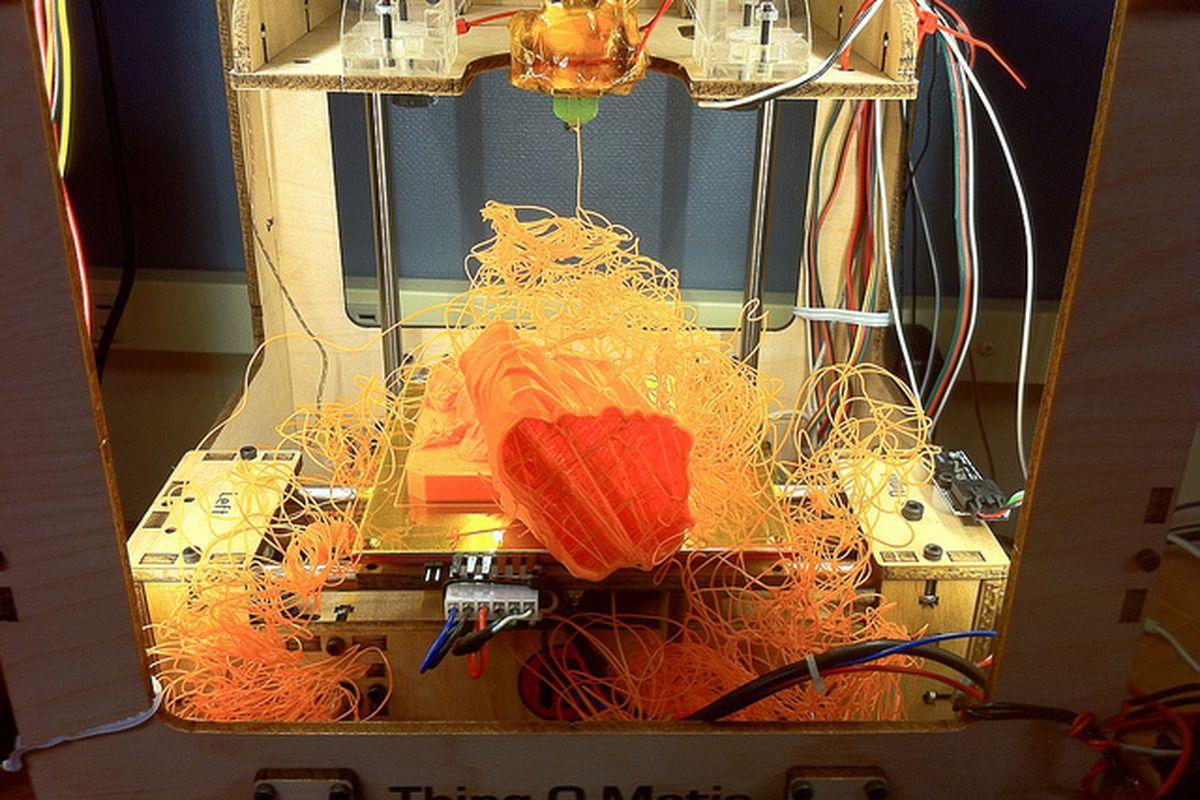Spaghetti: (155, 434, 415, 725), (436, 334, 704, 584), (502, 612, 930, 718), (425, 201, 773, 326), (796, 366, 940, 536), (205, 317, 430, 421), (612, 331, 790, 417), (681, 546, 901, 608), (685, 422, 789, 541)
